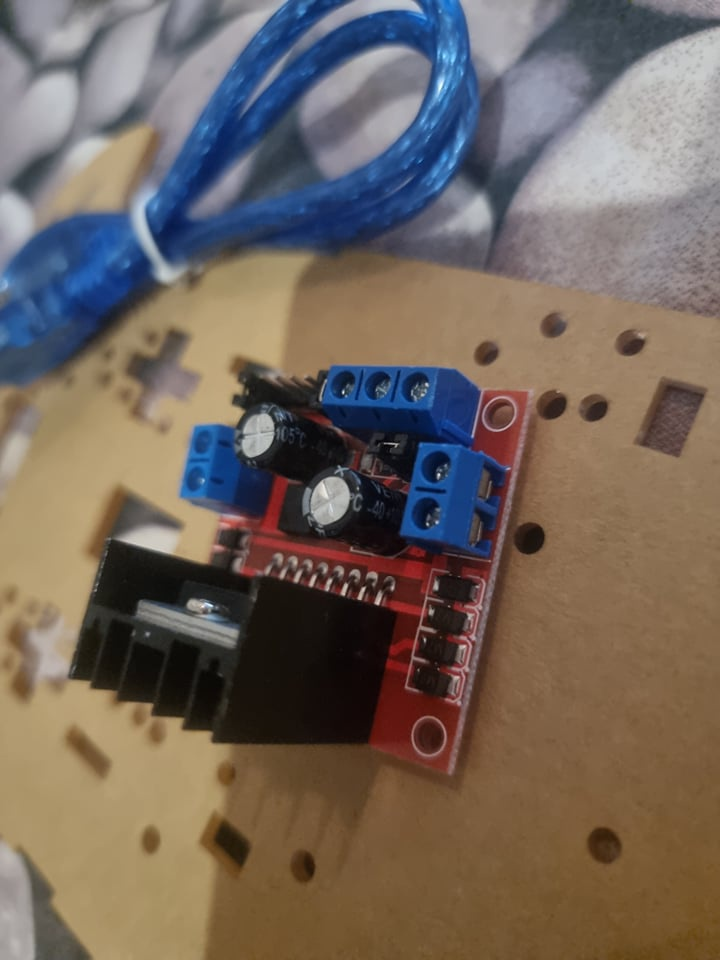MOTOR: (64, 362, 536, 783)
